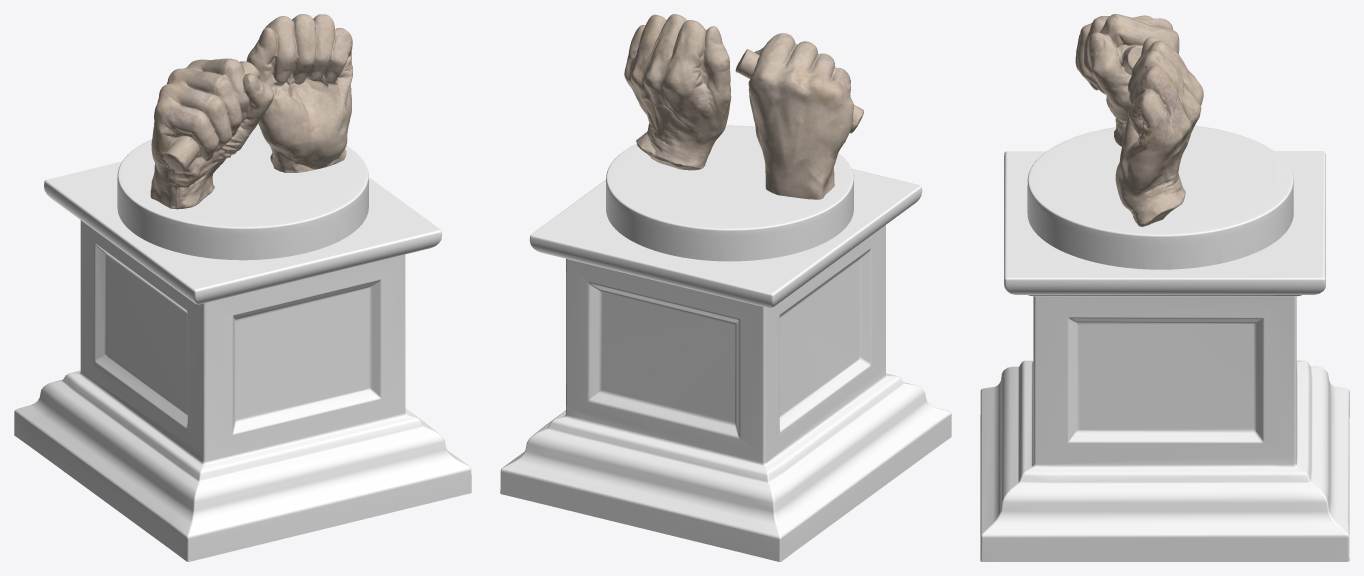
Rendered from artifact-2_aero-optimized.glb.
The picture shows the model from 3 angles, left to right: view 1: azimuth 30°, elevation 25°; view 2: azimuth 150°, elevation 25°; view 3: azimuth 270°, elevation 25°; orthographic projection. The views are drawn at different scales.
Bounding box in the file's own units: 0.3194 × 0.4707 × 0.3383.
Materials: 2 (2 with a texture image).
